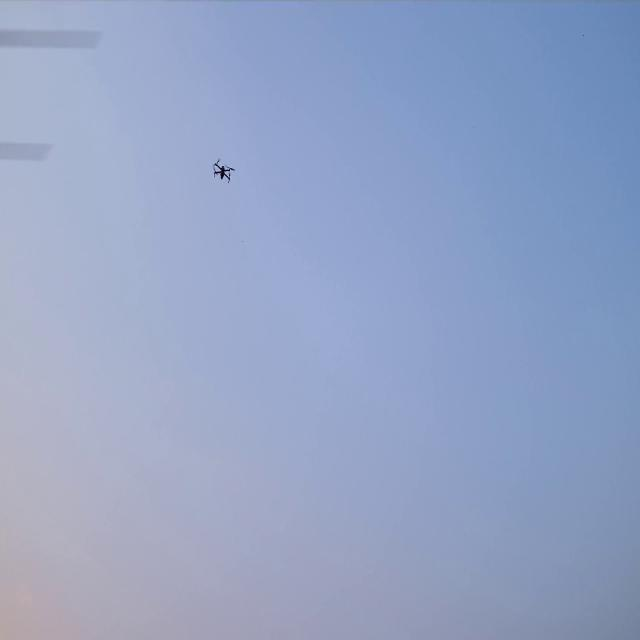UAV: (210, 157, 236, 184)
